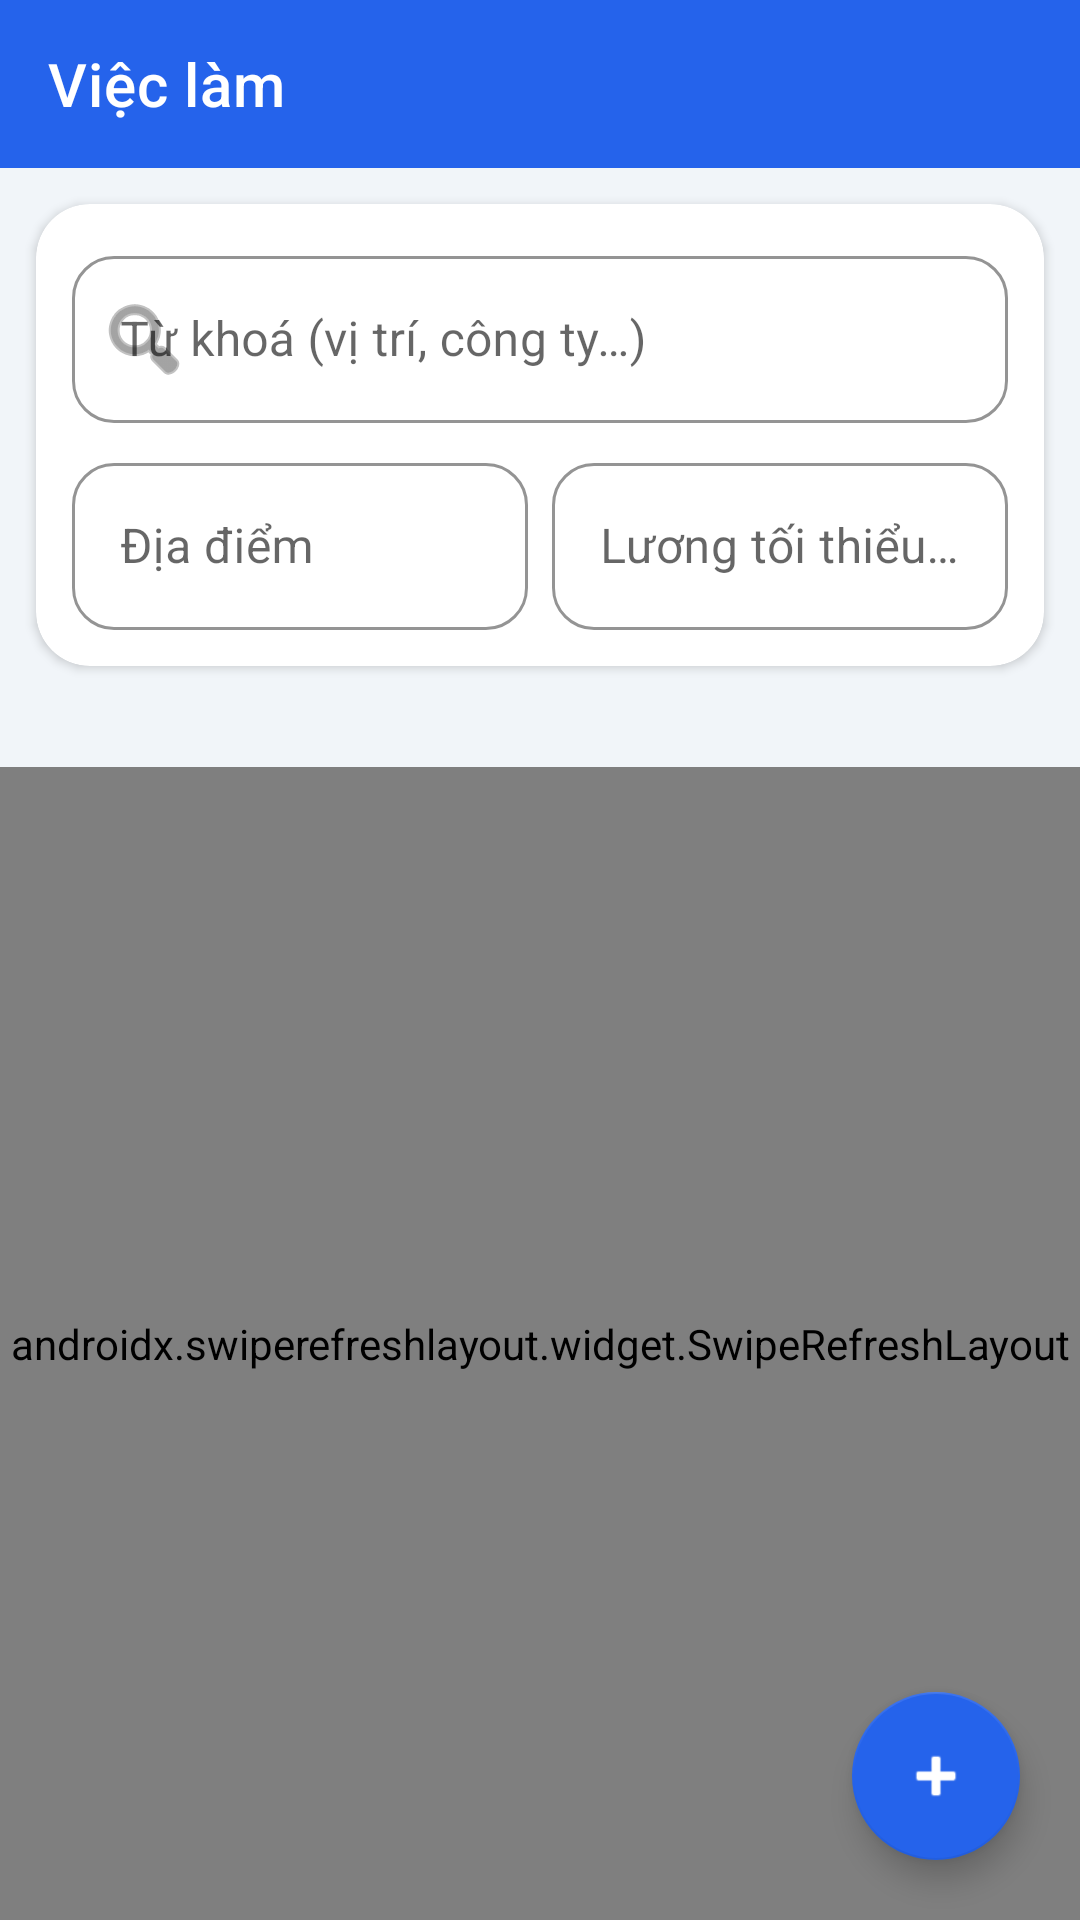

Icons on this 1080*1920 Android screen, each with its box as (x1, y1, x2, y2):
Đăng tin mới: (852, 1692, 1020, 1860)
